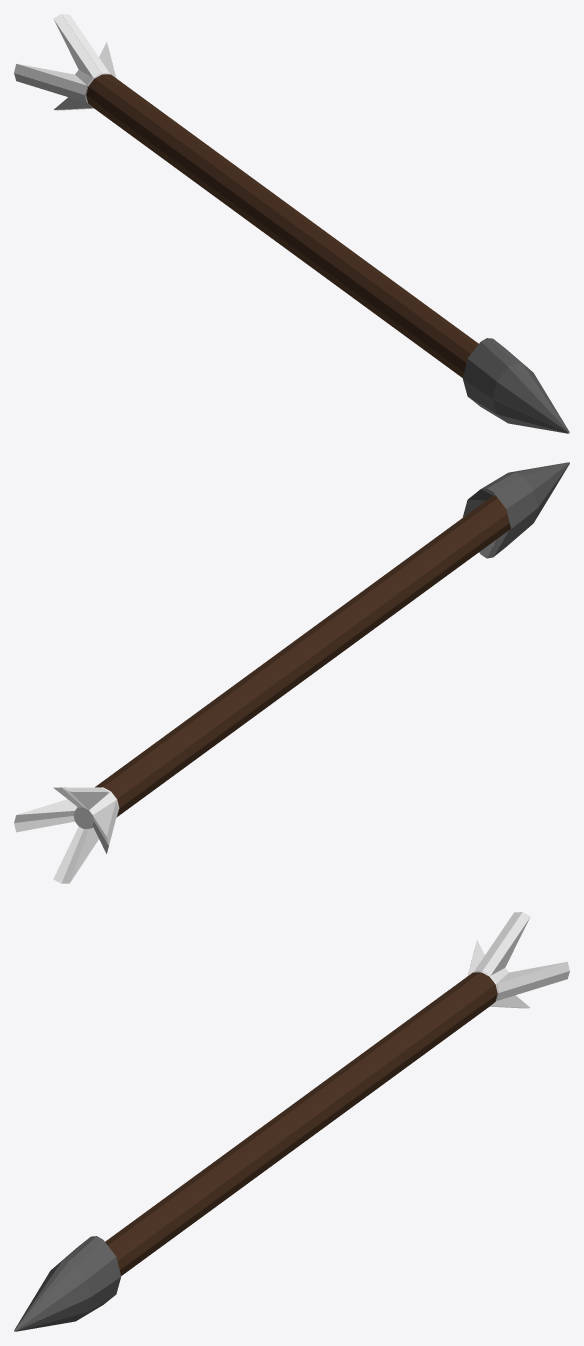
The model's file is strela.dae.
3 views of the same model, one above another, from view 1: azimuth 30°, elevation 25°; view 2: azimuth 150°, elevation 25°; view 3: azimuth 330°, elevation 25° (orthographic).
Visible parts, largest first — view 1: Cube; view 2: Cube; view 3: Cube.
Boxes of the visible parts, <box> form: Cube: <box>14,14,569,433</box>; Cube: <box>14,462,569,883</box>; Cube: <box>14,912,569,1331</box>.
Size of the model in its own units: 5.72 by 52.99 by 5.55.
